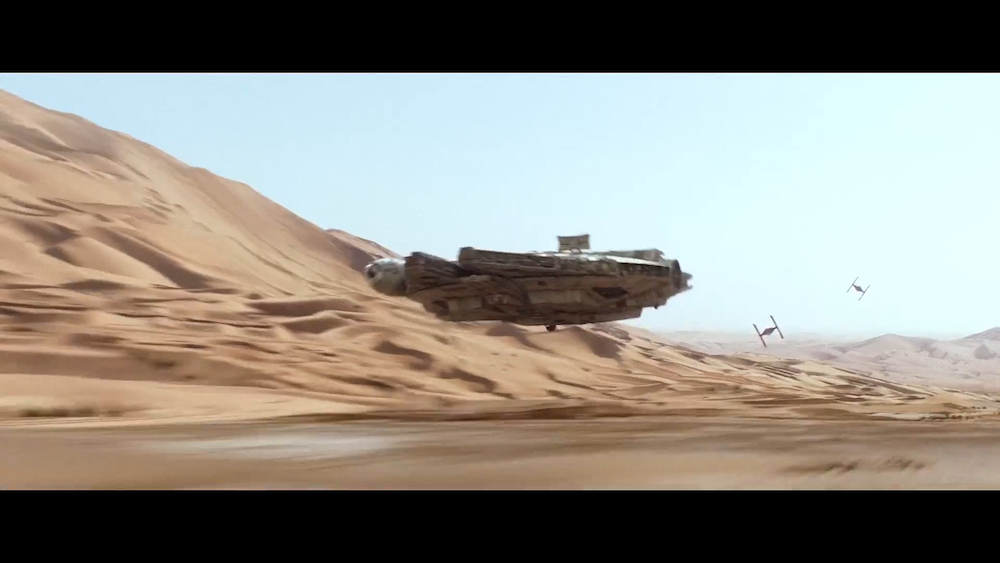Millennium Falcon: (364, 236, 694, 332)
Tie Fighter: (752, 315, 785, 349), (847, 277, 870, 301)
